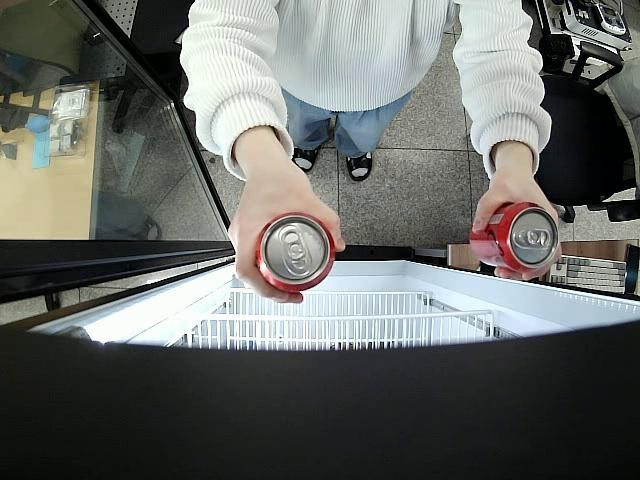11_cocaColaZero: (254, 212, 337, 295), (469, 202, 562, 271)
